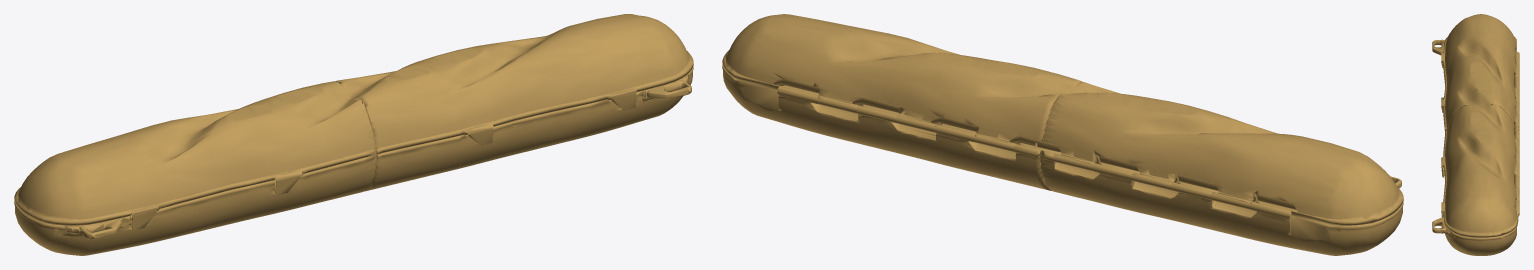
Rendered from baguette-holder.glb.
3 views of the same model, side by side, from view 1: azimuth 30°, elevation 25°; view 2: azimuth 150°, elevation 25°; view 3: azimuth 270°, elevation 25° (orthographic). The views are drawn at different scales.
Visible parts, largest first — view 1: lid, base; view 2: lid, base; view 3: lid, base.
Part boxes in pixels (x1=…): lid: x1=14, y1=14, x2=693, y2=230; base: x1=14, y1=65, x2=693, y2=255; lid: x1=722, y1=14, x2=1403, y2=225; base: x1=722, y1=65, x2=1403, y2=255; lid: x1=1441, y1=14, x2=1519, y2=237; base: x1=1432, y1=39, x2=1519, y2=255.
Bounding box in the file's own units: 622 × 86.95 × 111.
